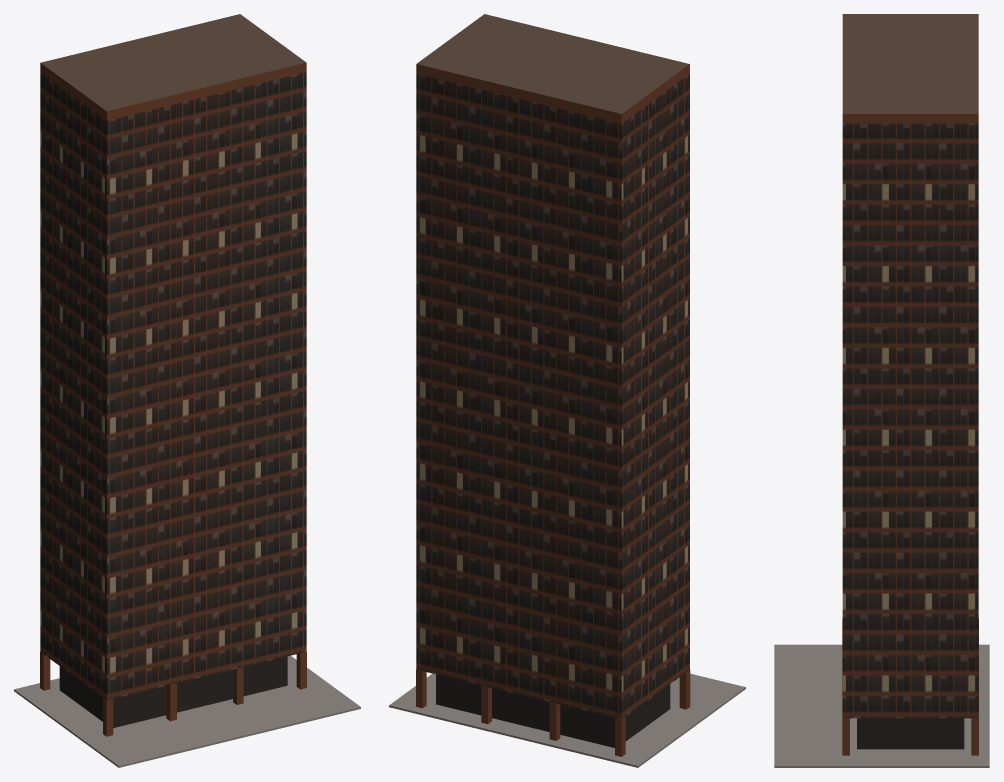
File: daley_center.glb
The picture shows the model from 3 angles, left to right: view 1: azimuth 30°, elevation 25°; view 2: azimuth 150°, elevation 25°; view 3: azimuth 270°, elevation 25°; orthographic projection. The views are drawn at different scales.
Parts seen in each view (by area): view 1: daley_center; view 2: daley_center; view 3: daley_center.
Boxes of the visible parts, x1,y1,x2,y2 form: daley_center: (14,14,360,767); daley_center: (389,14,745,767); daley_center: (774,14,989,767).
Bounding box in the file's own units: 80 × 198 × 60.
2 materials, 2 textured.
